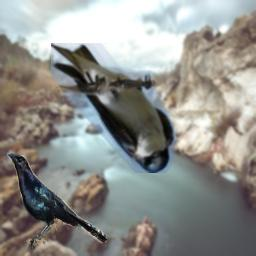Crow: (7, 153, 107, 250)
Swallow: (51, 43, 175, 173)
